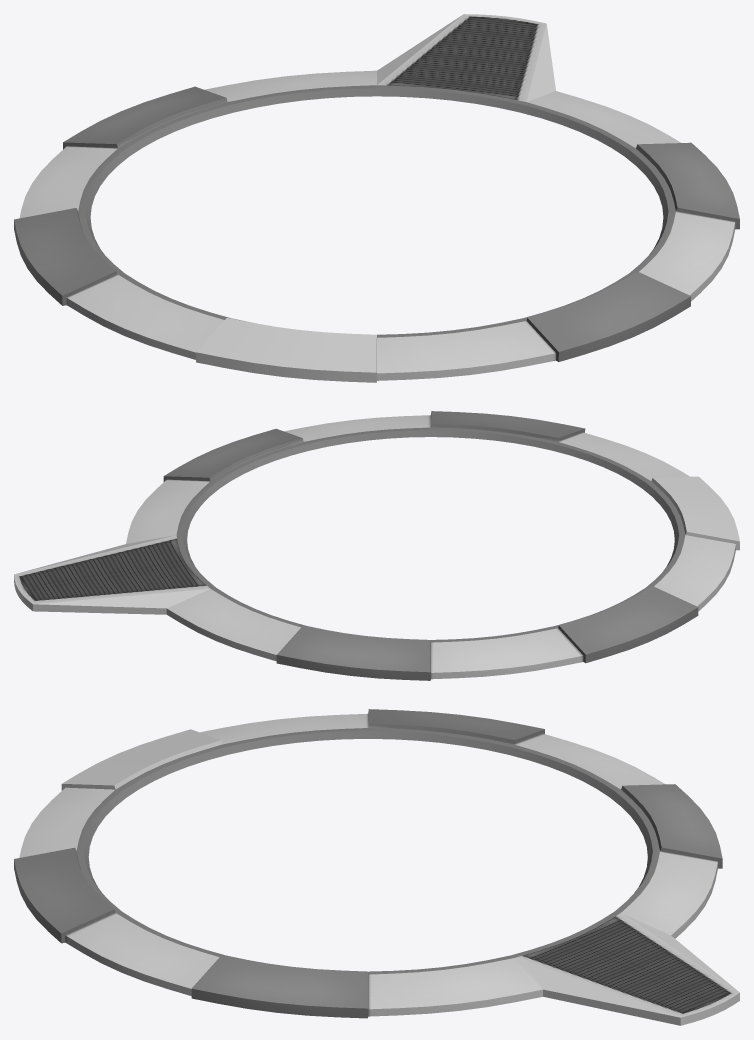
File: GravityPod_FloorSurround.fbx
3 views of the same model, one above another, from view 1: azimuth 30°, elevation 25°; view 2: azimuth 150°, elevation 25°; view 3: azimuth 270°, elevation 25° (orthographic). The views are drawn at different scales.
Visible parts, largest first — view 1: GravityPod_FloorSurround; view 2: GravityPod_FloorSurround; view 3: GravityPod_FloorSurround.
Boxes of the visible parts, left/top/right/bottom form: GravityPod_FloorSurround: left=14, top=14, right=739, bottom=382; GravityPod_FloorSurround: left=14, top=411, right=739, bottom=680; GravityPod_FloorSurround: left=14, top=709, right=739, bottom=1025.
Size of the model in its own units: 1686 by 54.42 by 1686.
2 materials, 1 textured.
